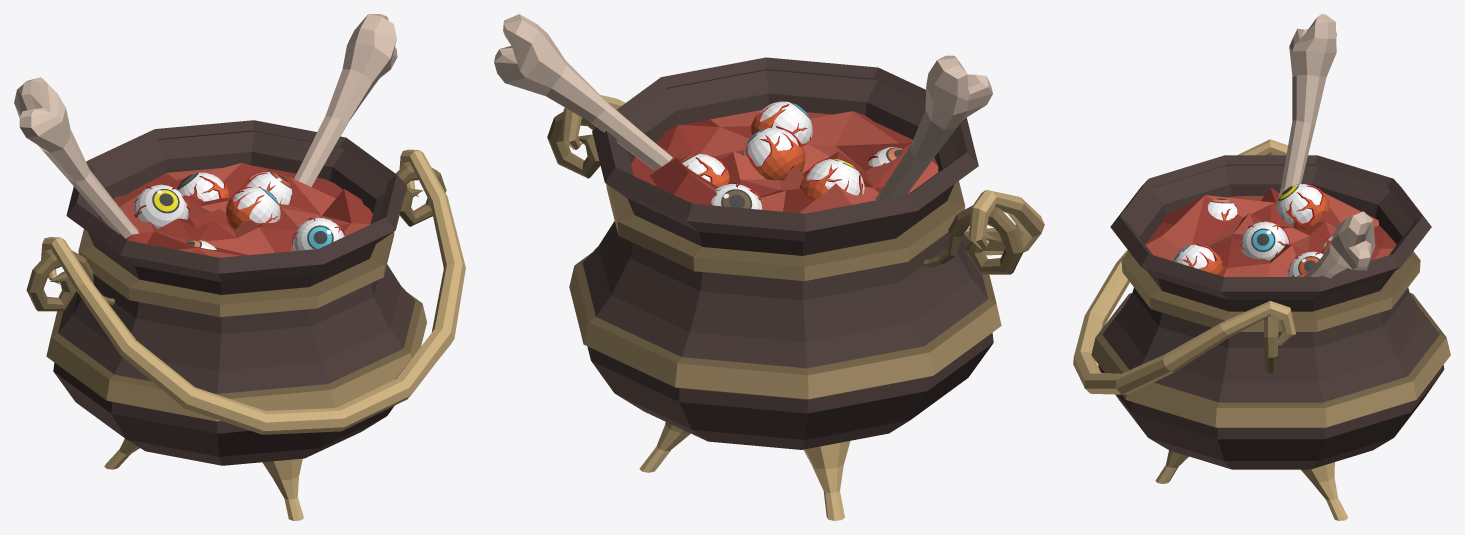
Rendered from WF_LP_HT_Props_Boiler.005.fbx.
3 renders of one model, left to right at view 1: azimuth 30°, elevation 25°; view 2: azimuth 150°, elevation 25°; view 3: azimuth 270°, elevation 25°, orthographic. The views are drawn at different scales.
Parts seen in each view (by area): view 1: WF_LP_HT_Props_Boiler.005; view 2: WF_LP_HT_Props_Boiler.005; view 3: WF_LP_HT_Props_Boiler.005.
Boxes of the visible parts, box(x1,y1,x2,y2) form: WF_LP_HT_Props_Boiler.005: box(14, 14, 465, 520); WF_LP_HT_Props_Boiler.005: box(494, 14, 1044, 520); WF_LP_HT_Props_Boiler.005: box(1073, 14, 1450, 520).
Bounding box in the file's own units: 0.7912 × 0.7576 × 0.6718.
